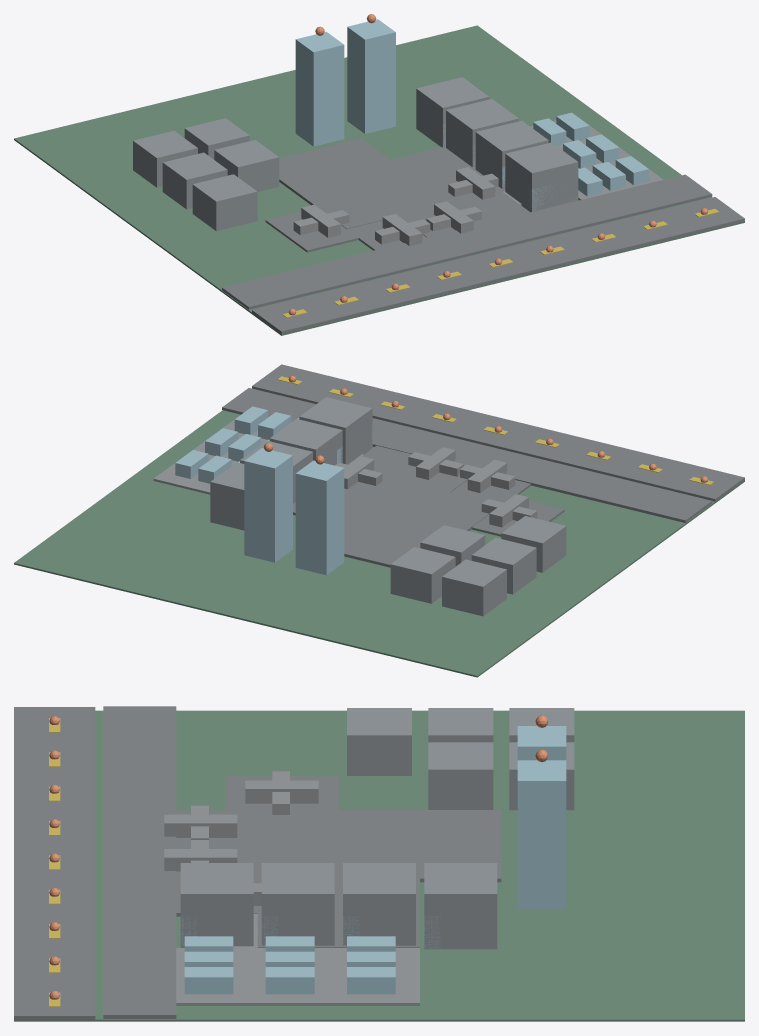
Rendered from stage_25.glb.
3 views of the same model, one above another, from view 1: azimuth 30°, elevation 25°; view 2: azimuth 150°, elevation 25°; view 3: azimuth 270°, elevation 25° (orthographic). The views are drawn at different scales.
Parts seen in each view (by area): view 1: geometry_0; view 2: geometry_0; view 3: geometry_0.
Boxes of the visible parts, <box> form: geometry_0: <box>14,14,744,335</box>; geometry_0: <box>14,364,744,677</box>; geometry_0: <box>14,706,744,1021</box>.
Bounding box in the file's own units: 9 × 2.06 × 9.
